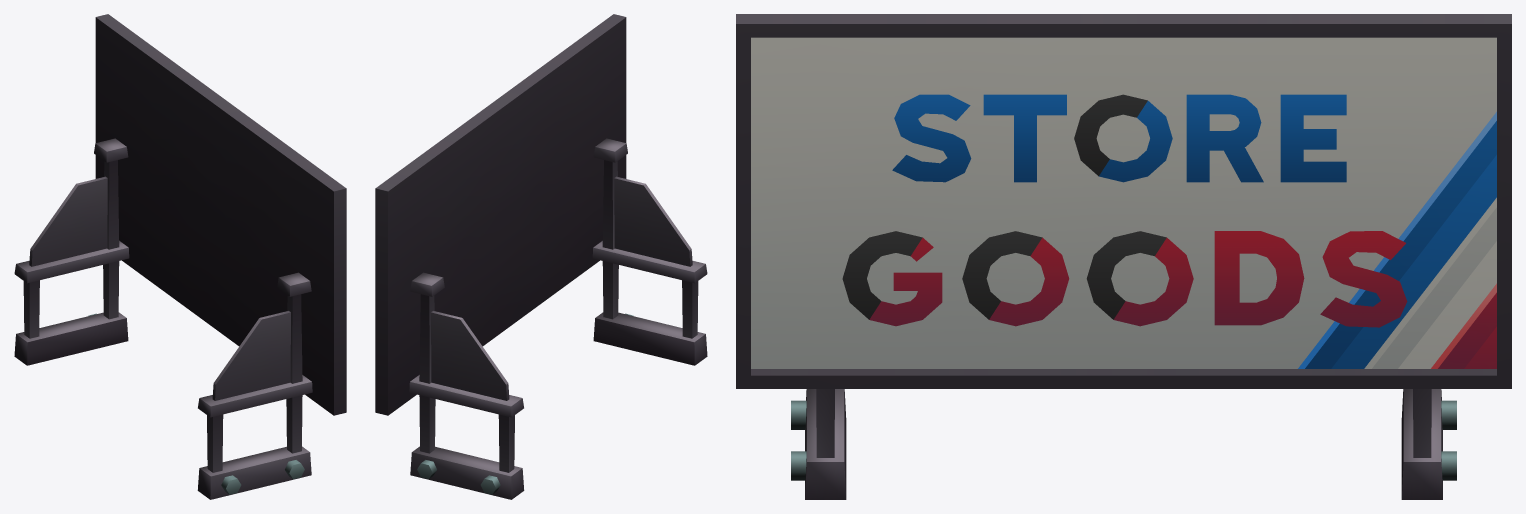
Rendered from Billboard_3B.fbx.
The picture shows the model from 3 angles, left to right: view 1: azimuth 30°, elevation 25°; view 2: azimuth 150°, elevation 25°; view 3: azimuth 270°, elevation 25°; orthographic projection. The views are drawn at different scales.
Visible parts, largest first — view 1: Billboard_3B; view 2: Billboard_3B; view 3: Billboard_3B.
Part boxes in pixels (x1=…): Billboard_3B: x1=14, y1=14, x2=346, y2=499; Billboard_3B: x1=375, y1=14, x2=707, y2=499; Billboard_3B: x1=736, y1=14, x2=1511, y2=499.
Bounding box in the file's own units: 2.9 × 7.2 × 10.4.
